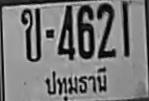1: (121, 1, 131, 58)
2: (96, 3, 117, 59)
4: (57, 6, 74, 60)
6: (76, 4, 93, 58)
A02: (20, 7, 40, 59)
PTE: (37, 66, 110, 100)
